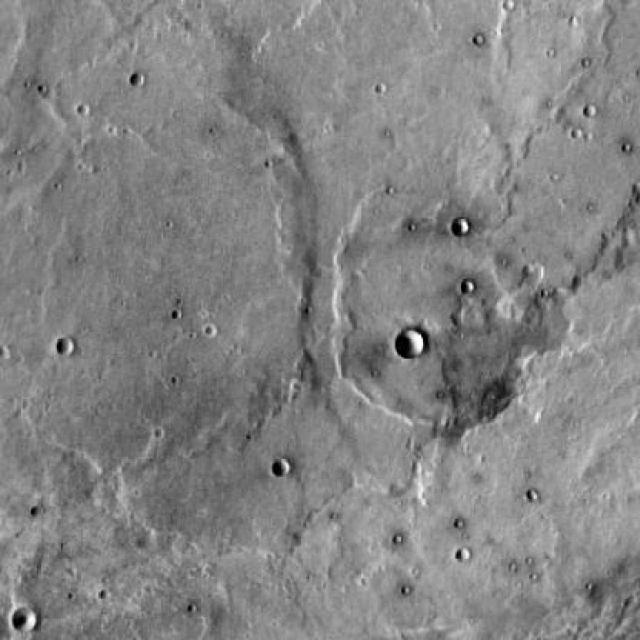crater: (0, 90, 318, 464), (338, 210, 550, 434), (398, 328, 431, 358), (15, 608, 36, 628), (268, 458, 288, 478), (456, 217, 474, 235), (0, 264, 3, 281)
